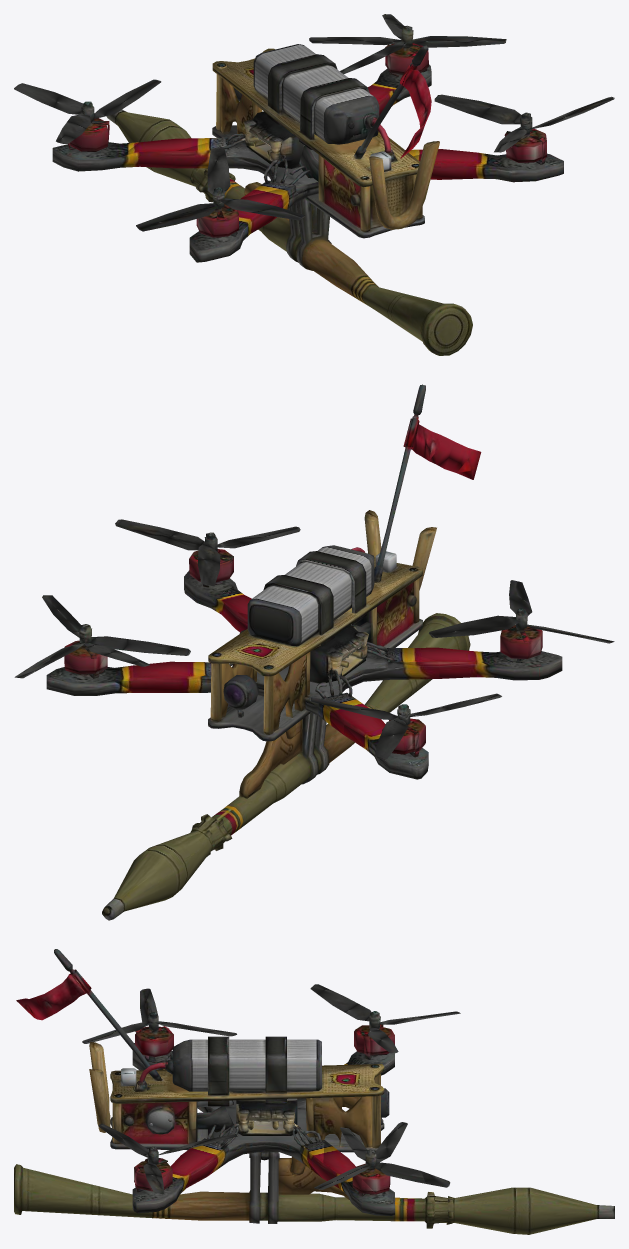
The model's file is fpv_kamikaze.glb.
3 renders of one model, top to bottom at view 1: azimuth 30°, elevation 25°; view 2: azimuth 150°, elevation 25°; view 3: azimuth 270°, elevation 25°, orthographic. The views are drawn at different scales.
Visible parts, largest first — view 1: Body, Trim; view 2: Body, Trim; view 3: Body, Trim.
Boxes of the visible parts, left/top/right/bottom form: Body: left=14, top=14, right=614, bottom=355; Trim: left=68, top=43, right=546, bottom=237; Body: left=14, top=384, right=614, bottom=920; Trim: left=64, top=415, right=542, bottom=753; Body: left=14, top=949, right=614, bottom=1234; Trim: left=16, top=969, right=394, bottom=1194.
Bounding box in the file's own units: 0.7 × 0.4365 × 0.8416.
Materials: 2 (2 with a texture image).
